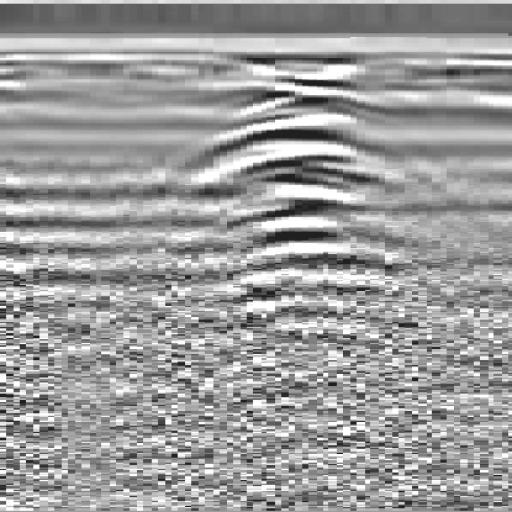metalic: (152, 59, 427, 324)
